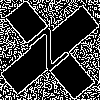Z: (25, 25, 78, 80)
